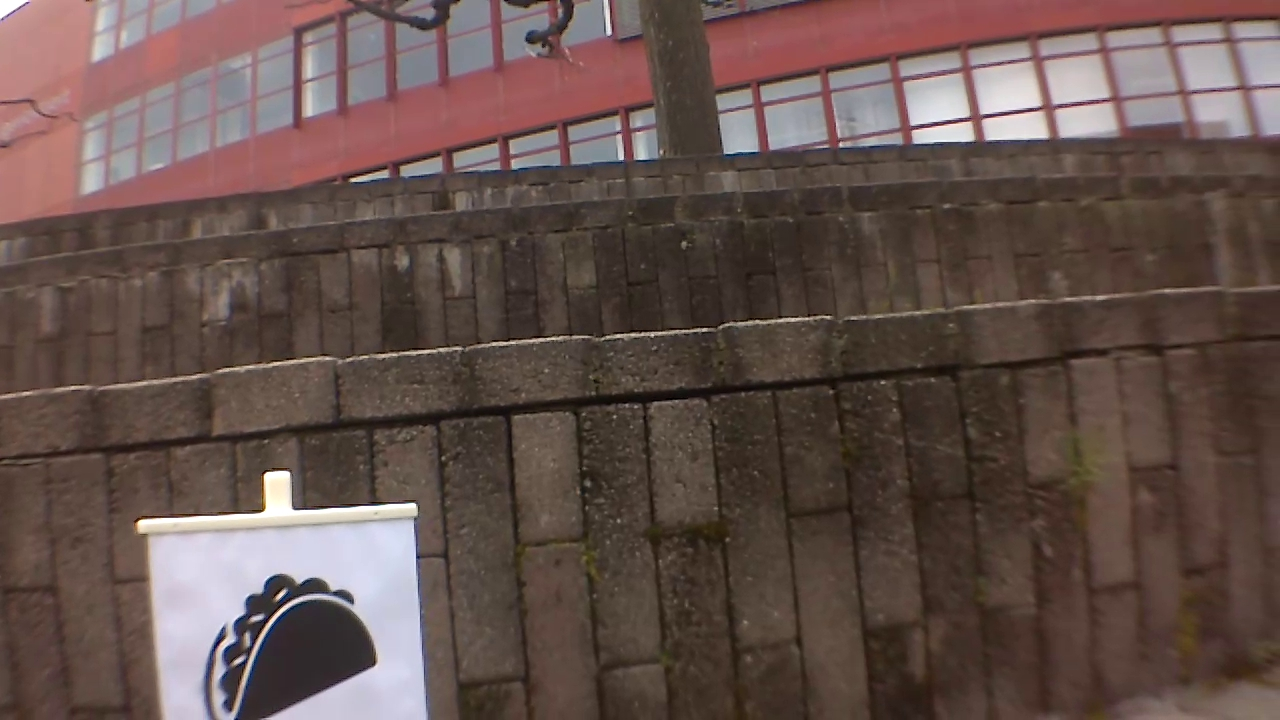taco: (193, 563, 382, 718)
